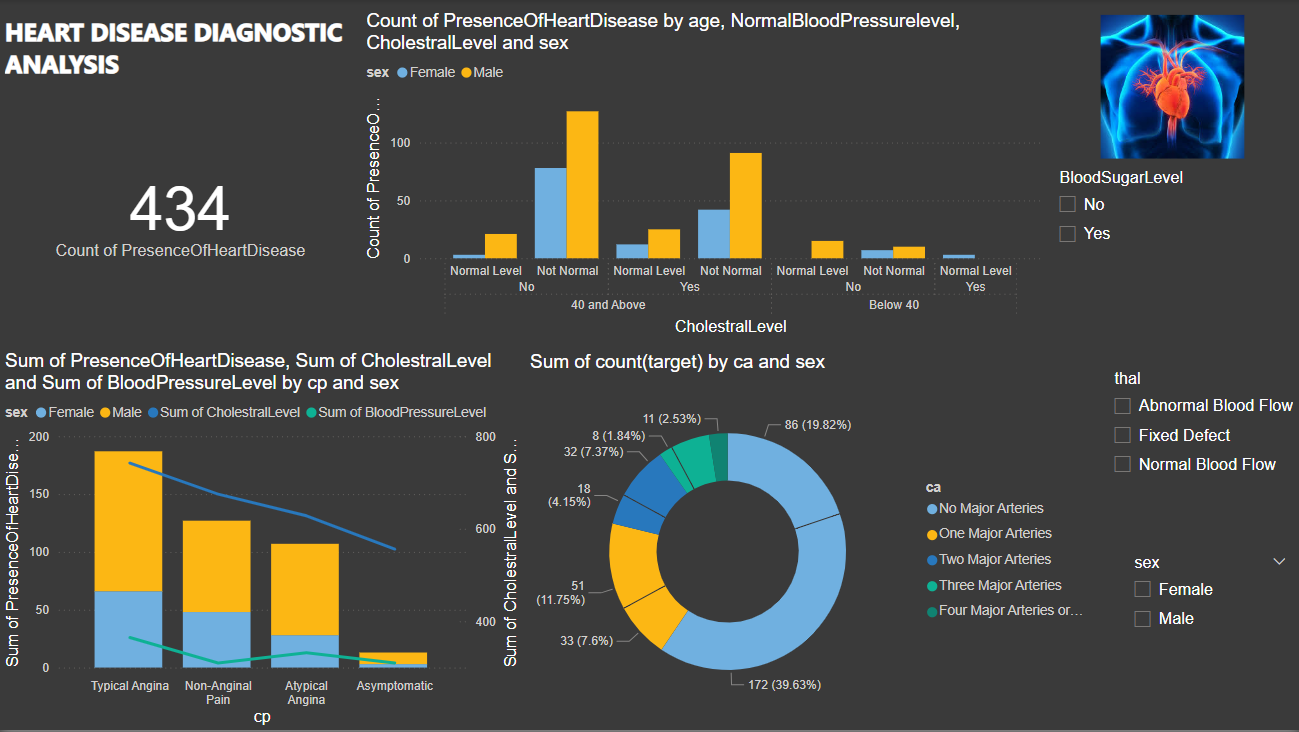

Layout of this report page (visuals, bound fields, positions):
{"tool":"powerbi","page":{"name":"HEART DISEASE ANALYSIS","canvas":[1280,720],"ordinal":0},"visuals":[{"type":"lineStackedColumnComboChart","fields":{"Category":["SQLAnalysis1.cp"],"Series":["SQLAnalysis1.sex"],"Y":["Sum(SQLAnalysis1.PresenceOfHeartDisease)"],"Y2":["Sum(SQLAnalysis1.CholestralLevel)","Sum(SQLAnalysis1.BloodPressureLevel)"]},"box":[0,344.9,517.3,374.4],"z":0},{"type":"donutChart","fields":{"Category":["SQLAnalysis3.ca"],"Y":["Sum(SQLAnalysis3.count(target))"],"Series":["SQLAnalysis3.sex"]},"box":[517.3,346.1,567.8,374.4],"z":1},{"type":"slicer","fields":{"Values":["SQLAnalysis3.thal"]},"box":[1085.2,359.7,194.6,167.5],"z":2},{"type":"slicer","fields":{"Values":["SQLAnalysis3.sex"]},"box":[1104.9,540.7,174.9,178.6],"z":3},{"type":"clusteredColumnChart","fields":{"Category":["SQLAnalysis2.age","SQLAnalysis2.NormalBloodPressurelevel","SQLAnalysis2.CholestralLevel"],"Series":["SQLAnalysis2.sex"],"Y":["CountNonNull(SQLAnalysis2.PresenceOfHeartDisease)"]},"box":[356,9.9,675,325.2],"z":4},{"type":"slicer","fields":{"Values":["SQLAnalysis2.BloodSugarLevel"]},"box":[1031,161.4,248.8,186],"z":5},{"type":"textbox","box":[0,9.7,356.4,123.1],"z":6},{"type":"image","box":[1031,10,249,151],"z":7},{"type":"card","fields":{"Values":["CountNonNull(SQLAnalysis2.PresenceOfHeartDisease)"]},"box":[0,103.5,356,211.9],"z":8}]}

Visuals, with their boxes in screenshot pixels (x1, y1, x2, y2), scaled from the page's 1280x720 canvas onto the 1299x732 screenshot:
lineStackedColumnComboChart - SQLAnalysis1.cp x SQLAnalysis1.sex: x1=0 y1=351 x2=525 y2=731
donutChart - SQLAnalysis3.ca x Sum(SQLAnalysis3.count(target)): x1=525 y1=352 x2=1101 y2=731
slicer - SQLAnalysis3.thal: x1=1101 y1=366 x2=1298 y2=536
slicer - SQLAnalysis3.sex: x1=1121 y1=550 x2=1298 y2=731
clusteredColumnChart - SQLAnalysis2.age x SQLAnalysis2.NormalBloodPressurelevel: x1=361 y1=10 x2=1046 y2=341
slicer - SQLAnalysis2.BloodSugarLevel: x1=1046 y1=164 x2=1298 y2=353
textbox: x1=0 y1=10 x2=362 y2=135
image: x1=1046 y1=10 x2=1298 y2=164
card - CountNonNull(SQLAnalysis2.PresenceOfHeartDisease): x1=0 y1=105 x2=361 y2=321
